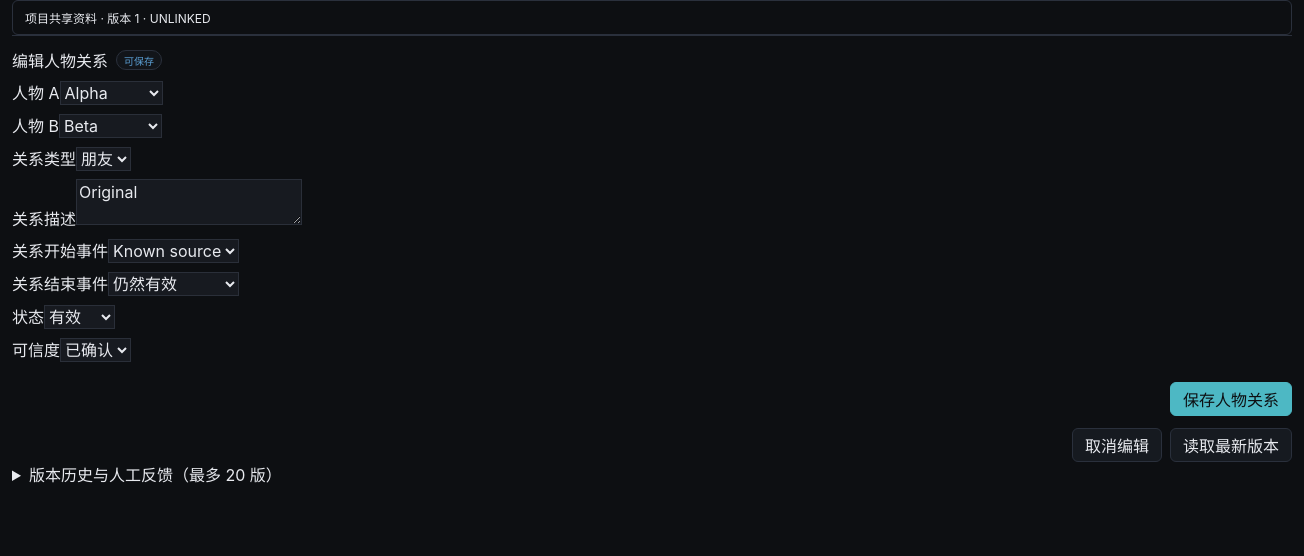
Test case: sends only supported fields and preserves the selected identity and exact CAS
Replace the text in the text box labelled "关系描述" with "Edited". click: (189, 202)
box: [76,179,302,225]
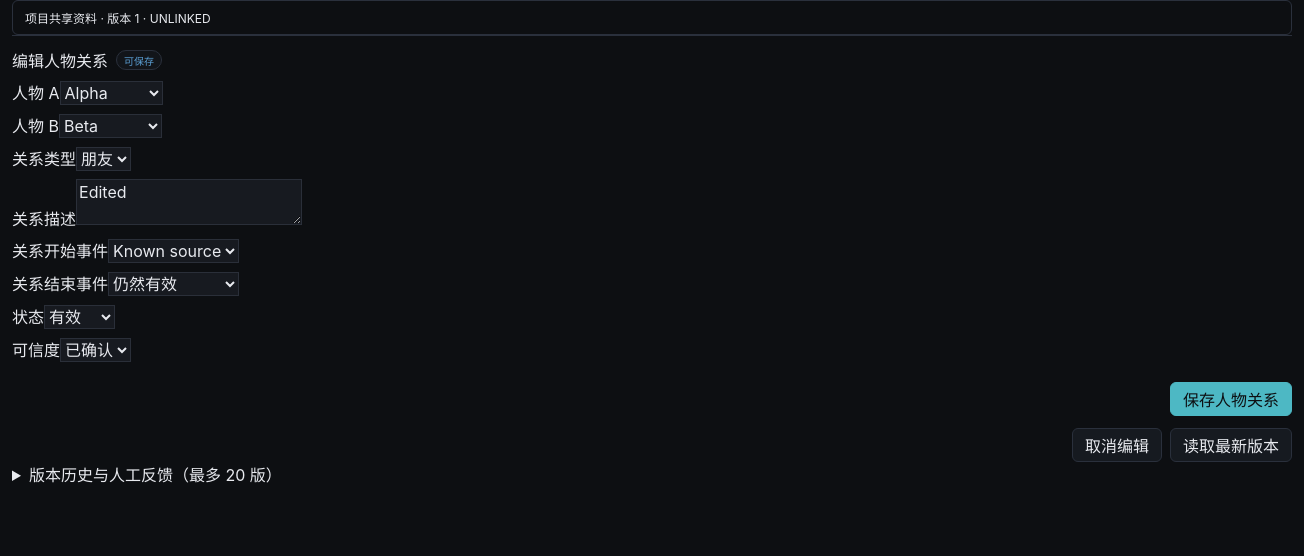
Click the button "保存人物关系". click: (1231, 399)
box: [1170,382,1292,416]
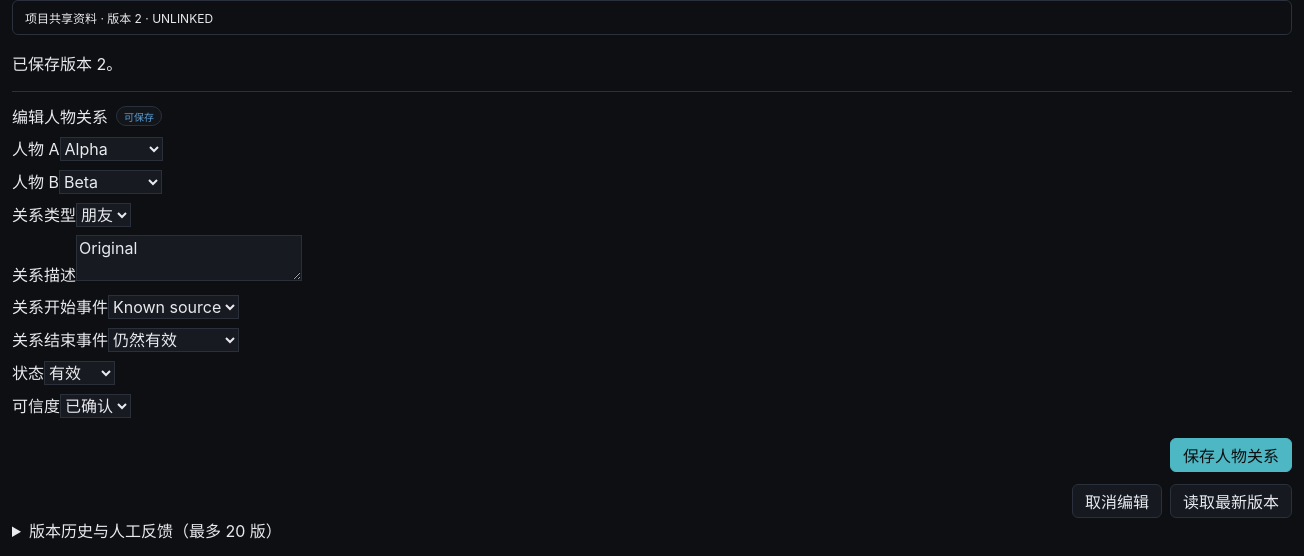
Check: the text "已保存版本 2。" is shown, box [12,54,122,74]
